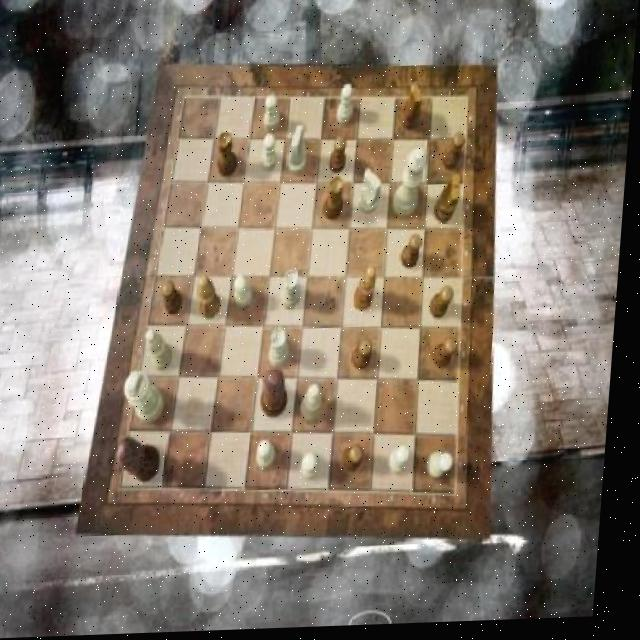bishop: (201, 276, 227, 322), (357, 268, 381, 313)
black-bishop: (123, 438, 168, 484)
black-king: (435, 177, 463, 227), (400, 85, 423, 134)
black-knight: (444, 135, 467, 175), (433, 289, 458, 324), (436, 341, 463, 373), (164, 282, 188, 316), (403, 238, 425, 272), (332, 139, 350, 177), (356, 342, 378, 373), (349, 448, 372, 475)
black-pawn: (266, 371, 296, 423)
black-queen: (217, 133, 243, 179), (326, 180, 347, 225)
black-rook: (149, 331, 180, 373), (306, 386, 329, 426)
white-bishop: (128, 371, 172, 427)
white-king: (361, 171, 385, 218), (288, 128, 311, 177)
white-knight: (338, 86, 356, 127), (433, 455, 460, 482), (262, 136, 281, 174), (236, 277, 257, 310), (264, 98, 283, 134), (395, 450, 418, 478), (262, 443, 283, 471), (308, 456, 328, 484)
white-pawn: (394, 150, 431, 220)
white-queen: (285, 272, 308, 313), (272, 331, 296, 370)
